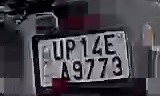1: (78, 35, 90, 59)
3: (111, 56, 124, 79)
4: (91, 35, 104, 57)
7: (95, 54, 109, 80), (84, 58, 95, 80)
9: (71, 61, 83, 80)
A: (58, 61, 73, 83)
E: (103, 33, 119, 56)
P: (64, 37, 77, 59)
U: (51, 39, 64, 61)
